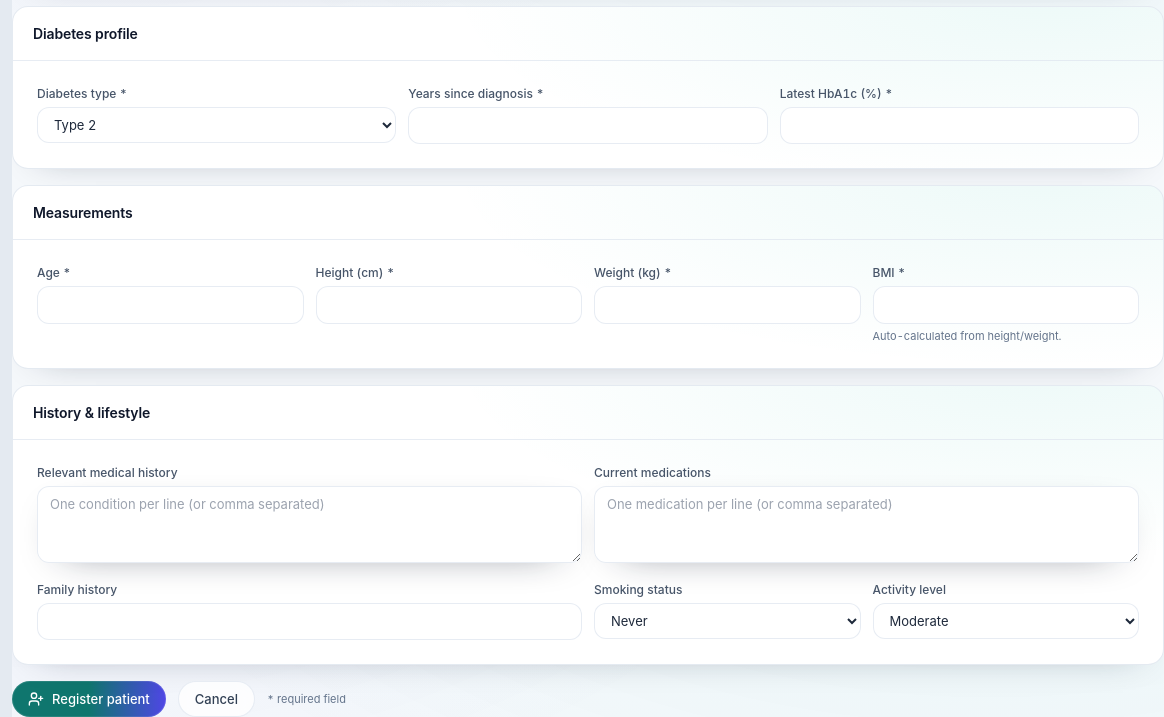
Test: AddPatient (registration) › blocks submission and shows field errors when required data is missing
This screenshot has width=1164, height=717.
(page scrolled)
Click the button "Register patient".
click(89, 699)  # box [12,681,166,716]
(page scrolled)
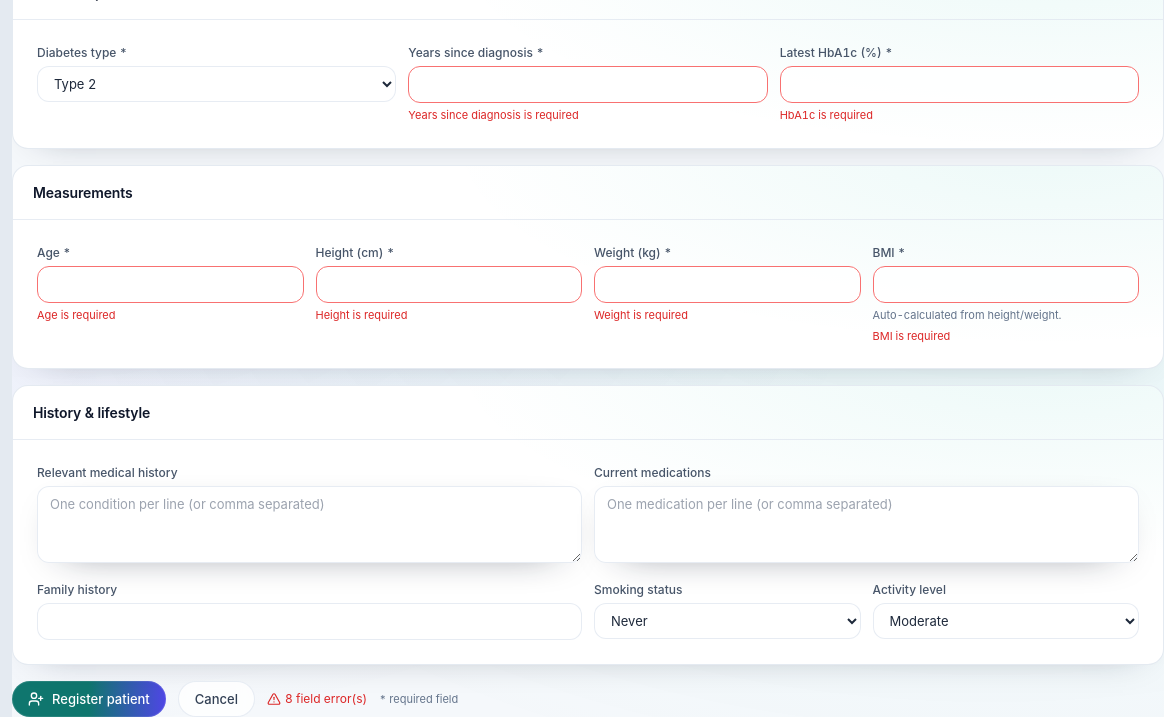
Expected: the text "Age is required" is shown, [37,308,116,322]
Expected: the text "8 field error(s)" is shown, [267,690,367,708]
